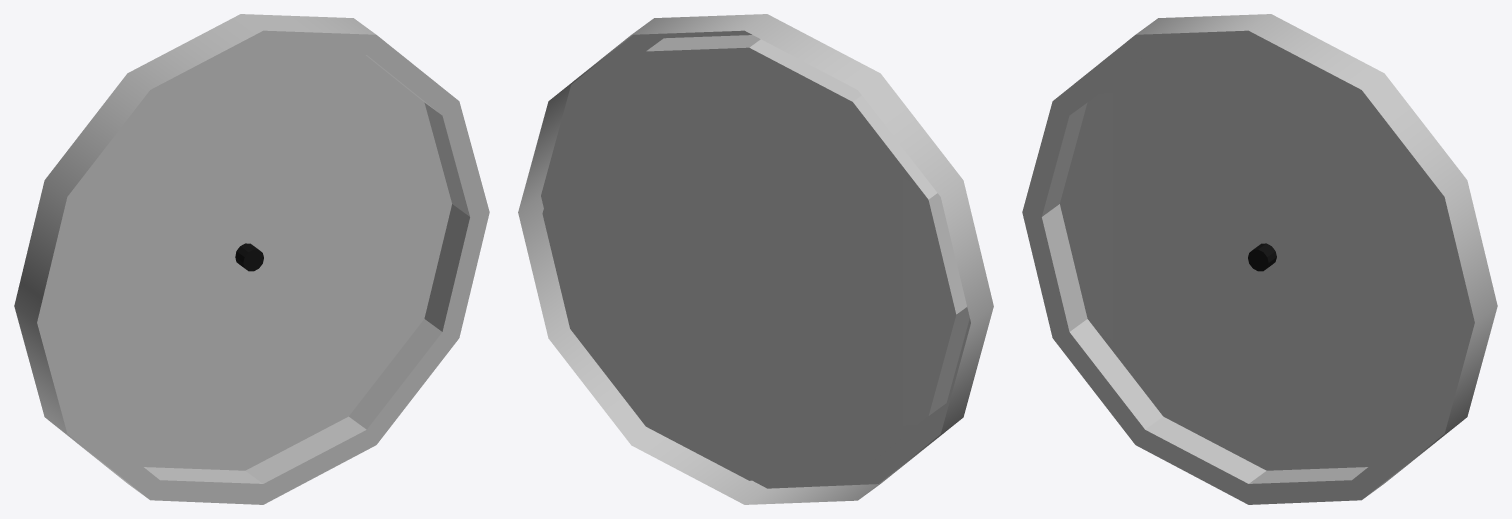
The model's file is Itr_Obj_Grandfatherclock2_Frame_06.FBX.
3 renders of one model, left to right at view 1: azimuth 30°, elevation 25°; view 2: azimuth 150°, elevation 25°; view 3: azimuth 330°, elevation 25°, orthographic.
Visible parts, largest first — view 1: Itr_Obj_Grandfatherclock2_Frame_06; view 2: Itr_Obj_Grandfatherclock2_Frame_06; view 3: Itr_Obj_Grandfatherclock2_Frame_06.
Part boxes in pixels (<box>): Itr_Obj_Grandfatherclock2_Frame_06: <box>14,14,489,504</box>; Itr_Obj_Grandfatherclock2_Frame_06: <box>518,14,993,504</box>; Itr_Obj_Grandfatherclock2_Frame_06: <box>1022,14,1497,504</box>.
Bounding box in the file's own units: 12.23 × 12.24 × 1.07.
